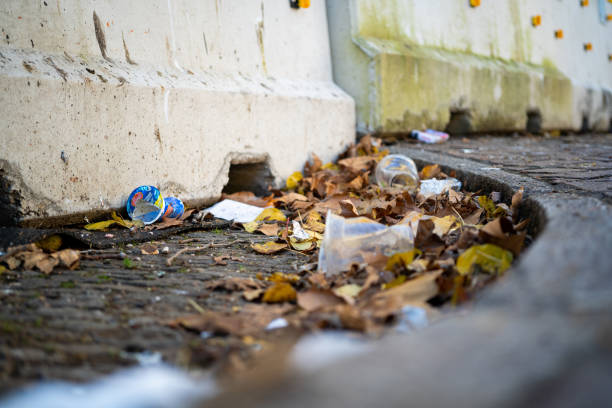plastic: (319, 213, 414, 273), (129, 183, 188, 224)
